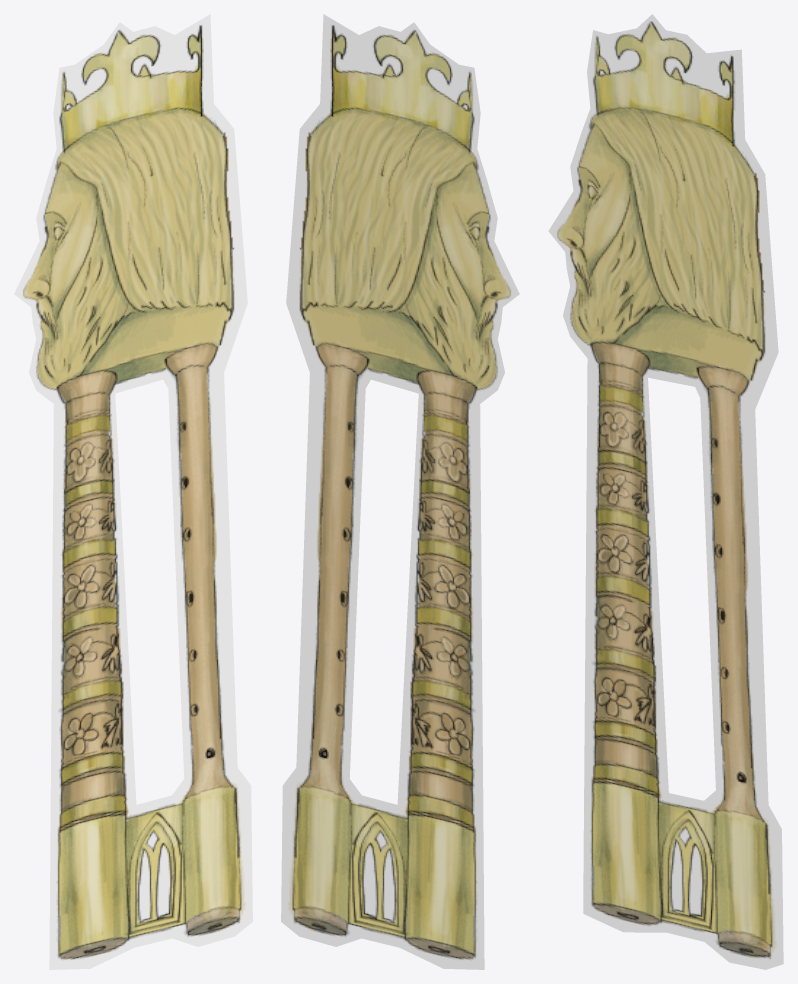
The picture shows the model from 3 angles, left to right: view 1: azimuth 30°, elevation 25°; view 2: azimuth 150°, elevation 25°; view 3: azimuth 330°, elevation 25°; orthographic projection.
Visible parts, largest first — view 1: Plane; view 2: Plane; view 3: Plane.
Boxes of the visible parts, left/top/right/bottom form: Plane: left=14, top=14, right=252, bottom=969; Plane: left=281, top=14, right=519, bottom=969; Plane: left=548, top=14, right=783, bottom=969.
Size of the model in its own units: 0.8197 by 3.1 by 0.
Materials: 1 (1 with a texture image).
